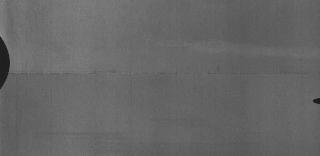punching hole: (308, 96, 320, 106)
welding line: (7, 69, 320, 81)
